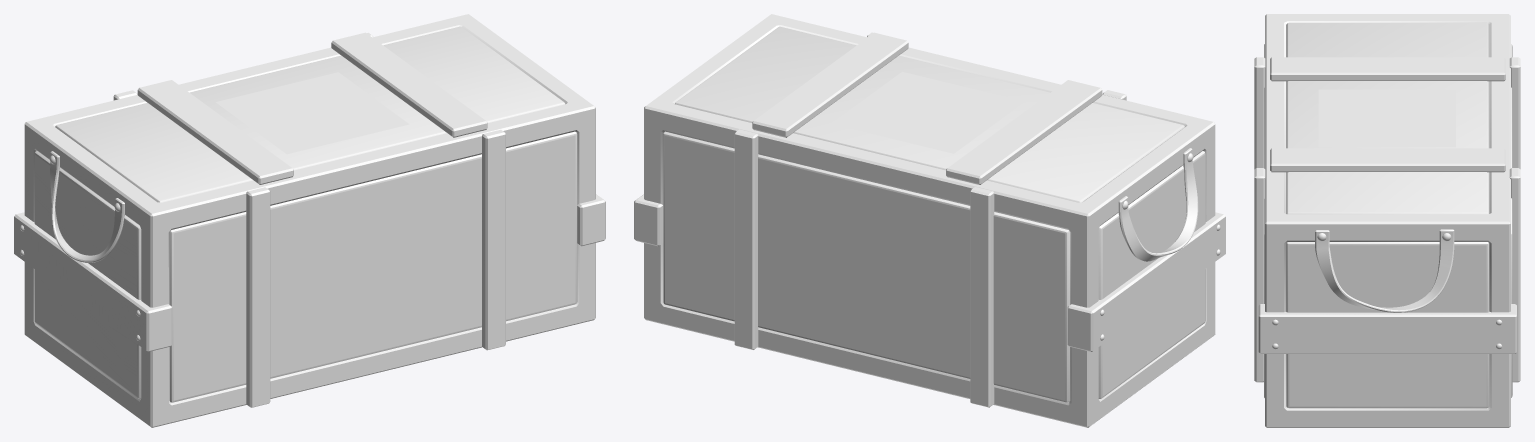
Rendered from KB3D_FTW_PropCargoBox_A_grp.glb.
3 renders of one model, left to right at view 1: azimuth 30°, elevation 25°; view 2: azimuth 150°, elevation 25°; view 3: azimuth 270°, elevation 25°, orthographic. The views are drawn at different scales.
Parts seen in each view (by area): view 1: KB3D_FTW_PropCargoBox_A_Main; view 2: KB3D_FTW_PropCargoBox_A_Main; view 3: KB3D_FTW_PropCargoBox_A_Main.
Boxes of the visible parts, x1,y1,x2,y2 form: KB3D_FTW_PropCargoBox_A_Main: [14, 14, 605, 427]; KB3D_FTW_PropCargoBox_A_Main: [634, 14, 1225, 427]; KB3D_FTW_PropCargoBox_A_Main: [1254, 14, 1520, 427].
Size of the model in its own units: 0.8094 by 0.3492 by 0.3922.
5 materials, 1 textured.
